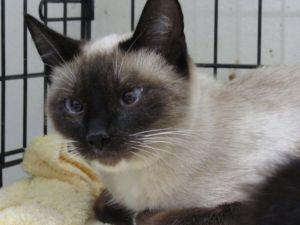siamese: (18, 1, 209, 182)
